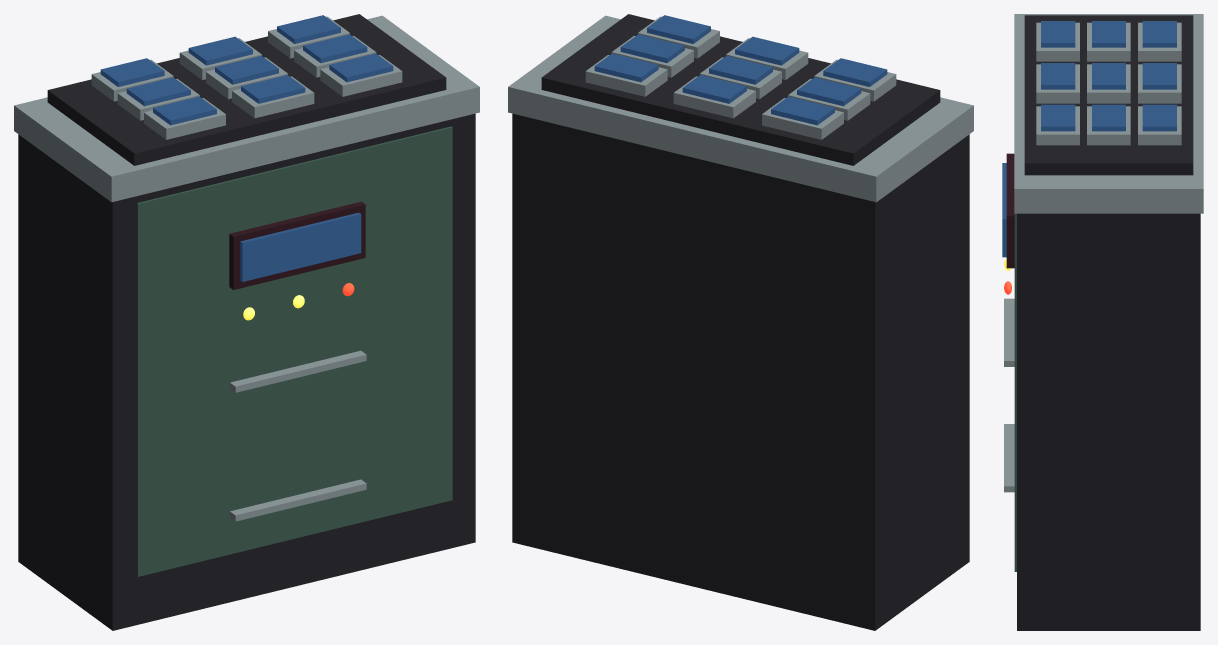
The model's file is mia-panel.glb.
The picture shows the model from 3 angles, left to right: view 1: azimuth 30°, elevation 25°; view 2: azimuth 150°, elevation 25°; view 3: azimuth 270°, elevation 25°; orthographic projection. The views are drawn at different scales.
Parts seen in each view (by area): view 1: Body_sage, Body_iron, Body_steel, Body_night-glass, Body_dark; view 2: Body_iron, Body_steel, Body_night-glass; view 3: Body_iron, Body_steel, Body_night-glass, Body_sage, Body_dark.
Part boxes in pixels (box(x1,y1,x2,y2)): Body_sage: box(137, 126, 452, 576); Body_iron: box(18, 14, 475, 630); Body_steel: box(14, 15, 479, 521); Body_night-glass: box(100, 15, 393, 281); Body_dark: box(229, 201, 365, 289); Body_iron: box(512, 14, 969, 630); Body_steel: box(508, 15, 973, 202); Body_night-glass: box(594, 15, 887, 125); Body_iron: box(1017, 15, 1200, 630); Body_steel: box(1004, 14, 1203, 492); Body_night-glass: box(1002, 21, 1176, 257); Body_sage: box(1014, 213, 1016, 571); Body_dark: box(1006, 153, 1014, 268).
Bounding box in the file's own units: 0.919 × 1.15 × 0.4475.
